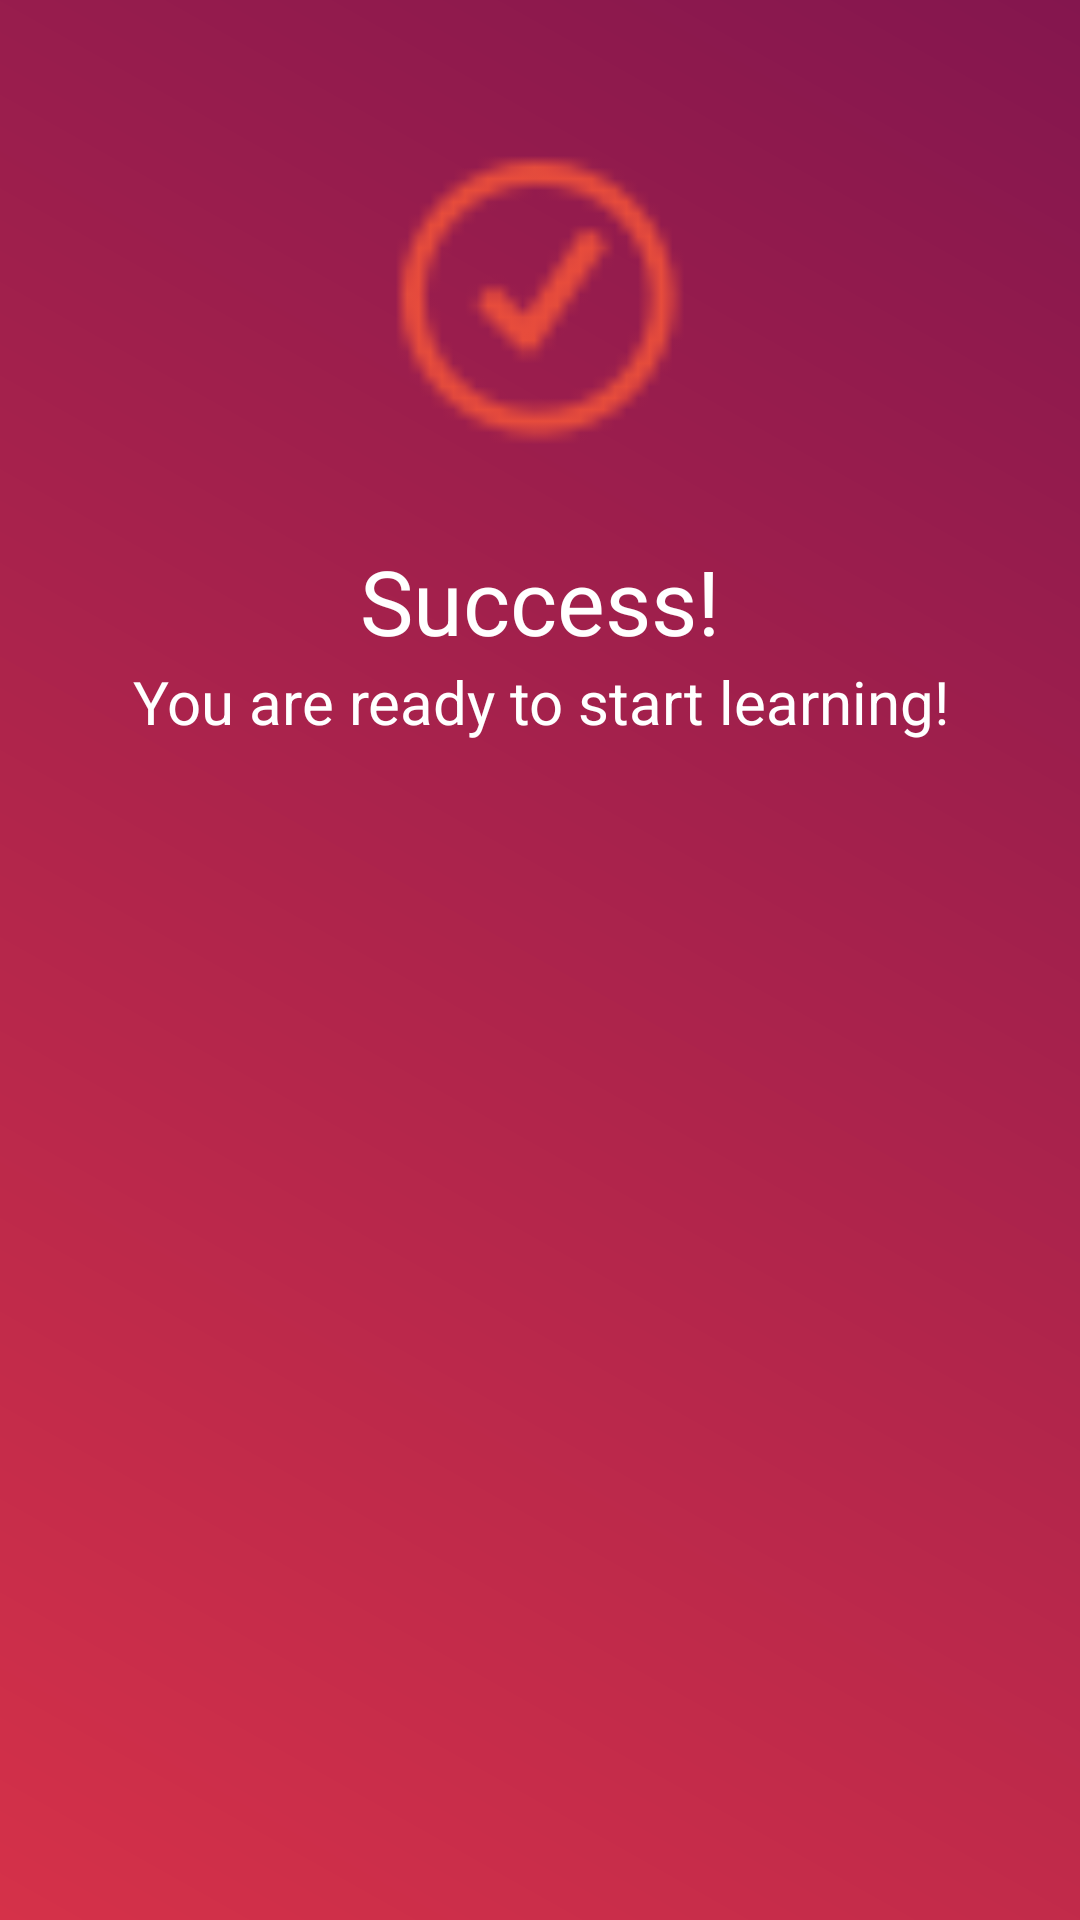

Named icons in this screenshot (1080×1920) and their centers, [x,y]:
check: [538,299]
